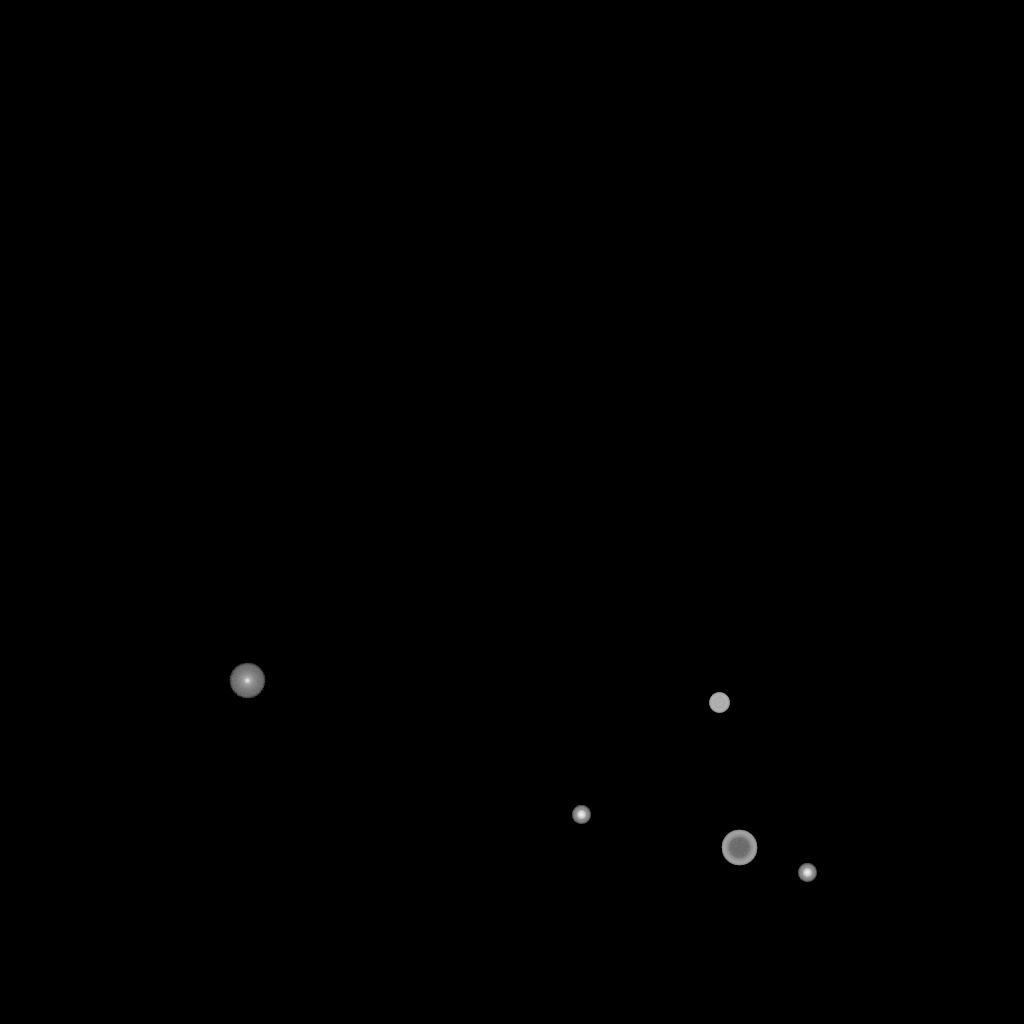depth:-20: (572, 806, 590, 824), (798, 864, 816, 882)
depth:-40: (709, 693, 729, 713)
depth:-60: (721, 830, 757, 866)
depth:0: (229, 663, 265, 699)
